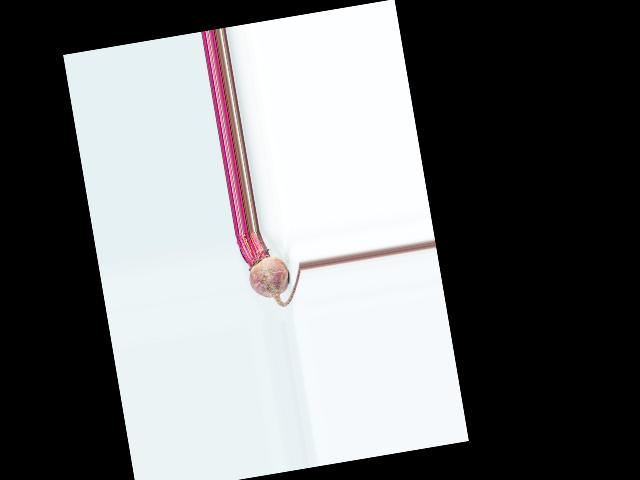beet: (235, 224, 305, 312)
